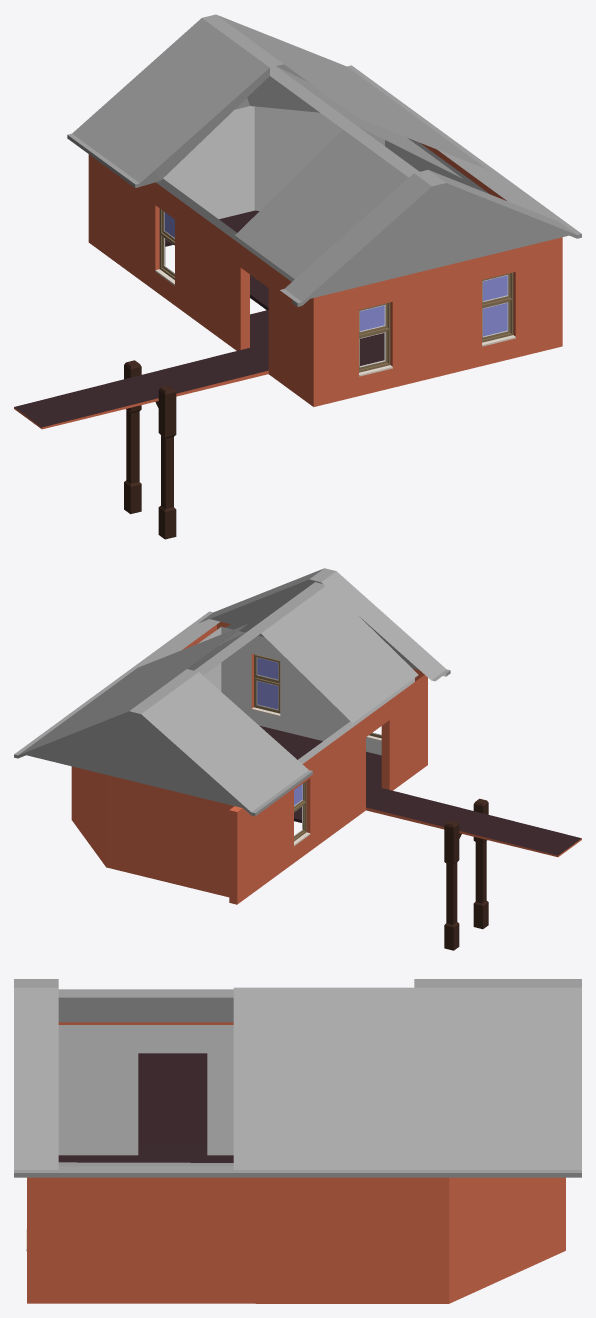
The model's file is SleepOutFL2.fbx.
The picture shows the model from 3 angles, top to bottom: view 1: azimuth 30°, elevation 25°; view 2: azimuth 150°, elevation 25°; view 3: azimuth 270°, elevation 25°; orthographic projection. The views are drawn at different scales.
Parts seen in each view (by area): view 1: SleepOutFL2, SleepOutRoof; view 2: SleepOutFL2, SleepOutRoof; view 3: SleepOutFL2, SleepOutRoof.
Boxes of the visible parts, x1,y1,x2,y2 form: SleepOutFL2: (14, 106, 562, 539); SleepOutRoof: (67, 14, 581, 306); SleepOutFL2: (71, 621, 581, 950); SleepOutRoof: (14, 568, 450, 816); SleepOutFL2: (26, 1022, 565, 1303); SleepOutRoof: (14, 979, 581, 1177).
Size of the model in its own units: 13.09 by 8.45 by 10.66.
